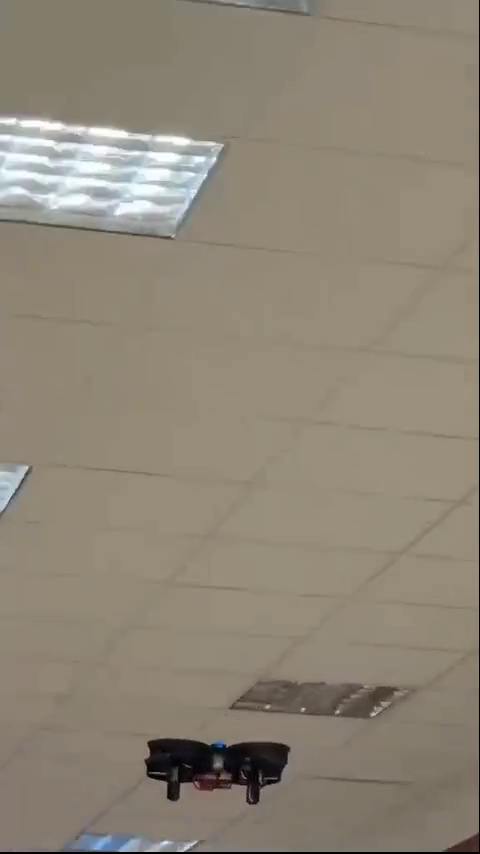drone: (143, 737, 289, 806)
